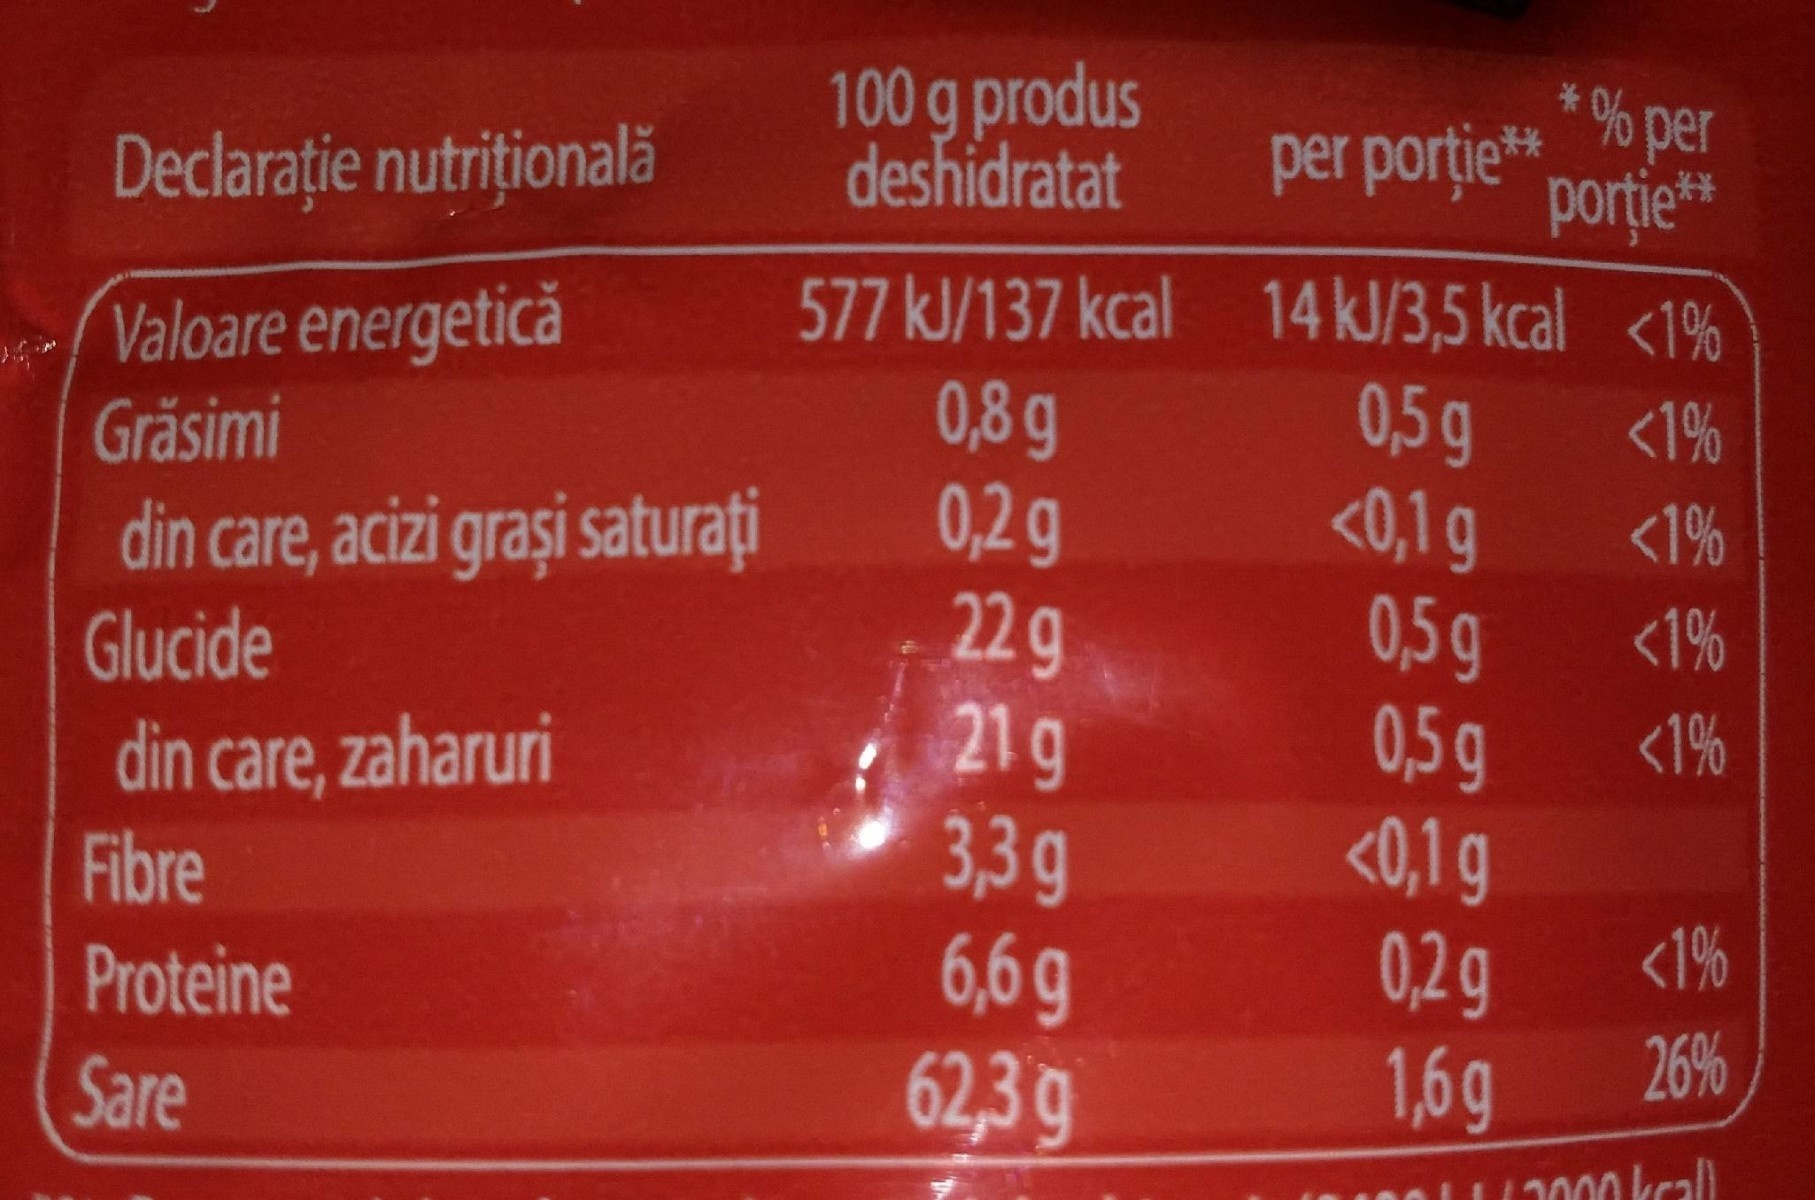column: (72, 112, 766, 1138), (796, 67, 1177, 1157), (1247, 63, 1569, 1157), (1579, 66, 1739, 1158)
table: (42, 59, 1768, 1175)
